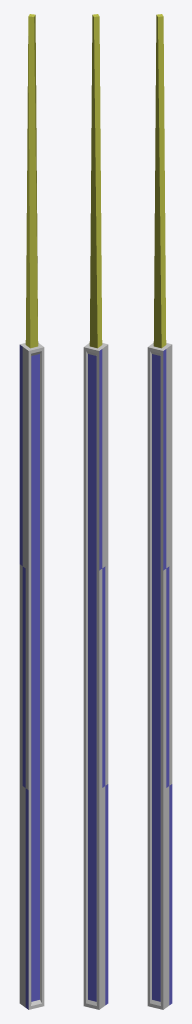
File: SM_WallSegmentModular.fbx
3 renders of one model, left to right at view 1: azimuth 30°, elevation 25°; view 2: azimuth 150°, elevation 25°; view 3: azimuth 330°, elevation 25°, orthographic.
Visible parts, largest first — view 1: Cube; view 2: Cube; view 3: Cube.
Boxes of the visible parts, bbox=[...] form: Cube: bbox=[19, 14, 44, 1009]; Cube: bbox=[83, 14, 108, 1009]; Cube: bbox=[147, 14, 172, 1009].
Bounding box in the file's own units: 10 × 600 × 10.
